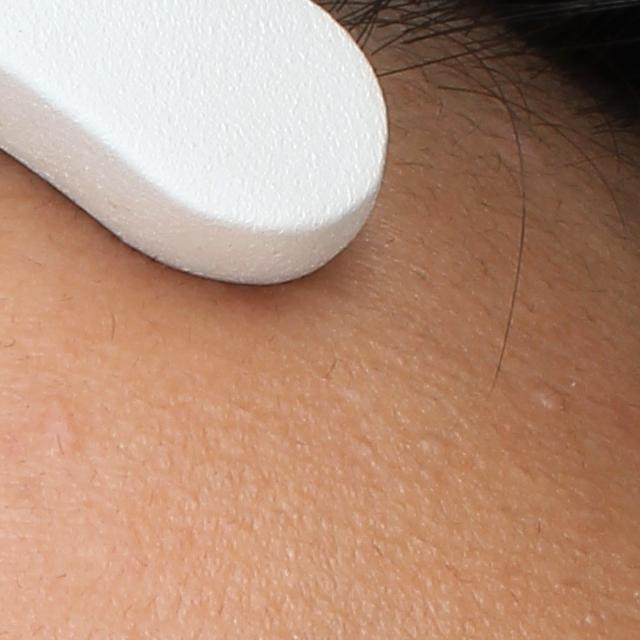comedo: (530, 382, 570, 415), (419, 433, 460, 461)
